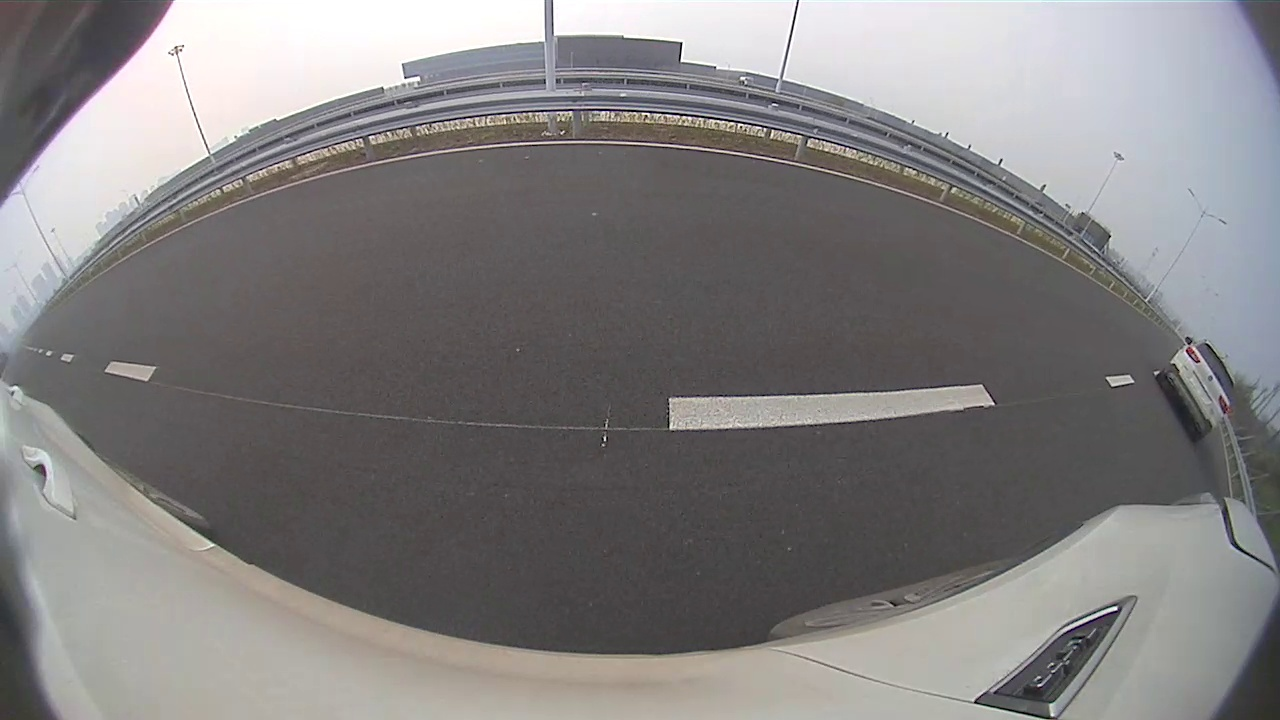car: (1156, 339, 1237, 441)
